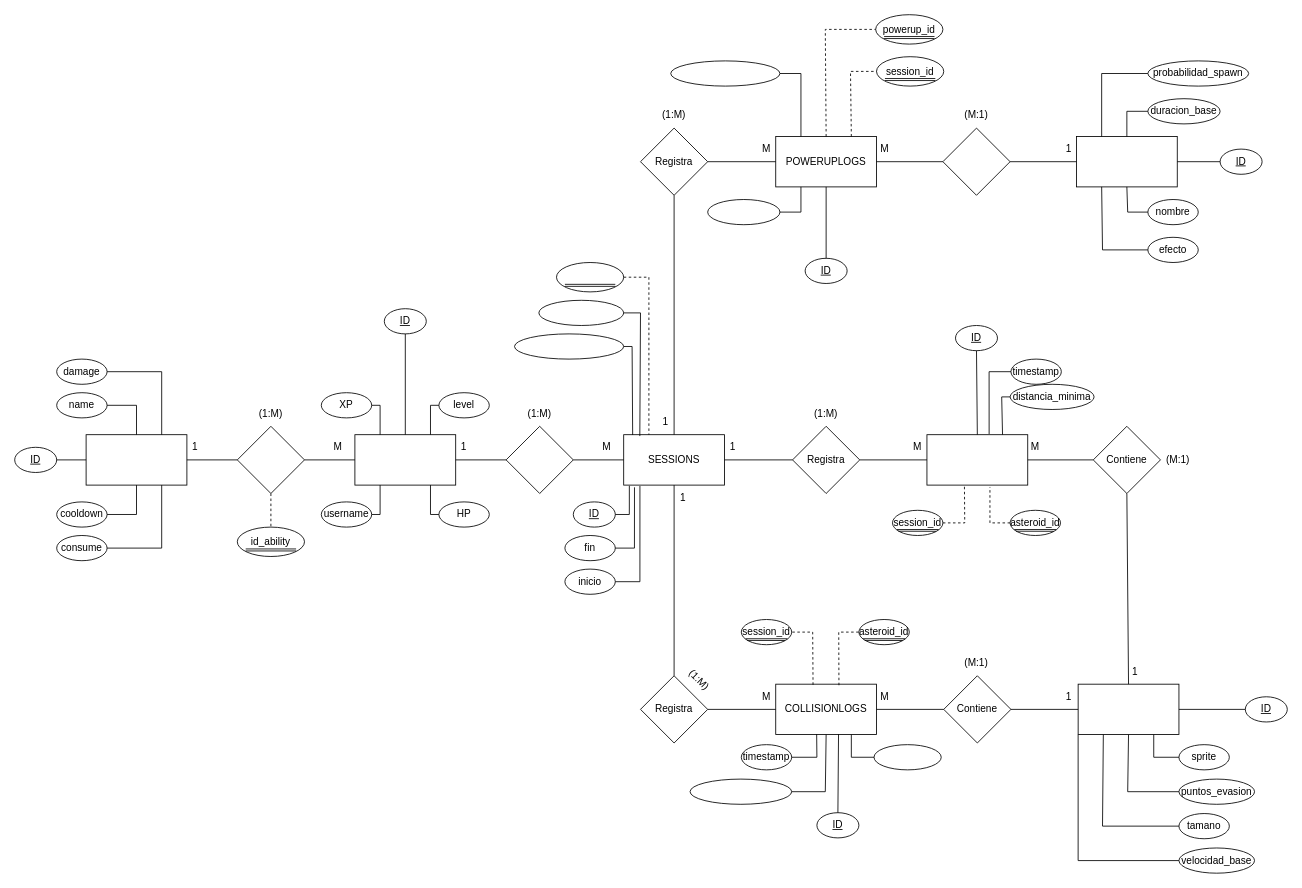
Some shapes in this 1302 by 888 pixel diagram are drawn without their labels. The centre of each missing label's shape, as x and y in pixels:
"ABILITIES" goes at [136,459].
"Administra" goes at [976,161].
"ASTEROIDTYPES" goes at [1128,709].
"coordenada_impacto" goes at [740,791].
"daño_recibido" goes at [907,757].
"dificultad_inicial" goes at [581,312].
"DODGERECORDS" goes at [977,459].
"Hace" goes at [539,459].
"Pertenece" goes at [270,459].
"player_id" goes at [590,277].
"PLAYERS" goes at [405,459].
"POWERUPS" goes at [1126,161].
"tiempo_supervivencia" goes at [569,346].
"timestamp_aplicacion" goes at [725,73].
"timestamp_fin" goes at [743,212].
